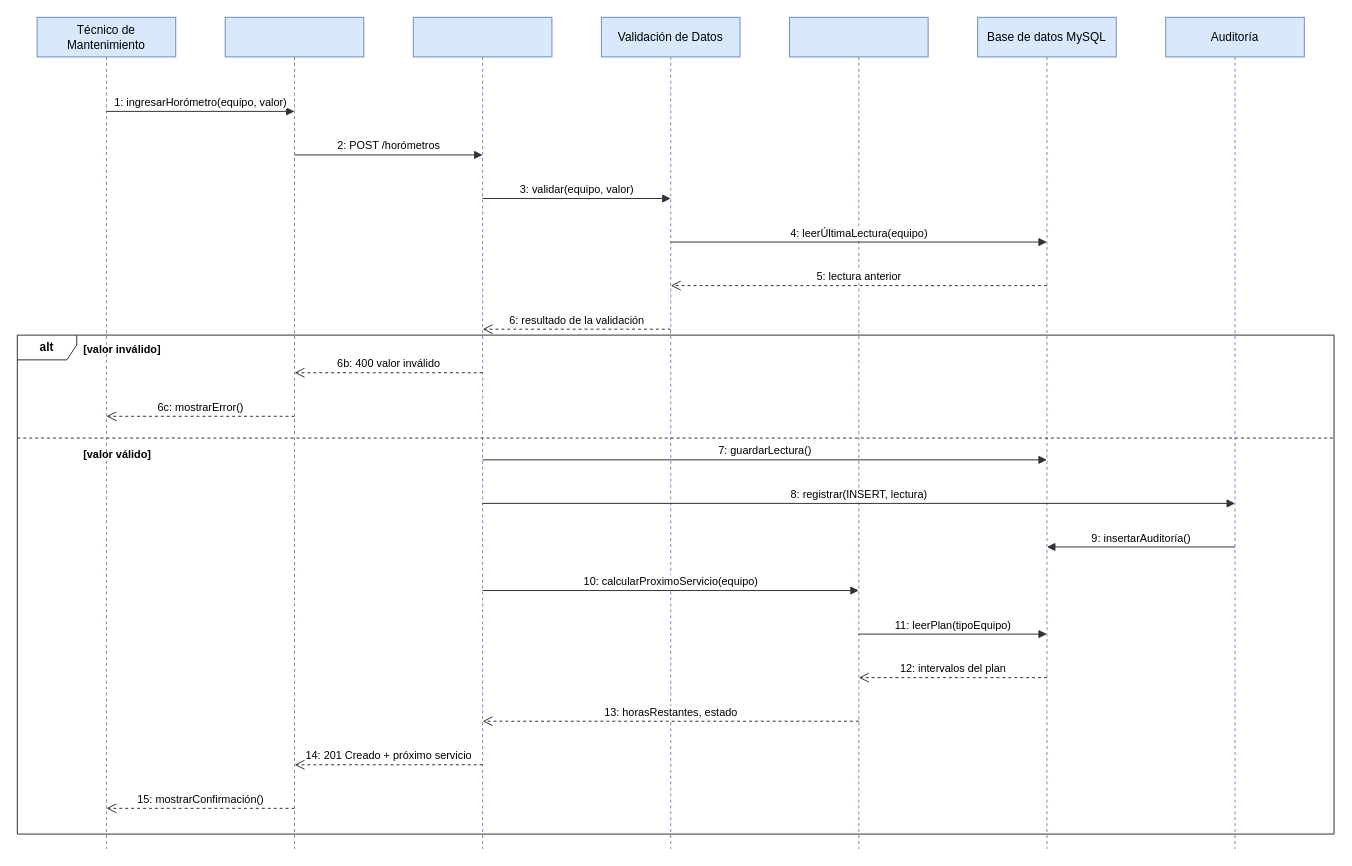
Image size: 1352x866. Some labels were removed from this diagram. The shapes that lost their labels are listed below. From the top down, each one's box as (x1, y1, x2, y2) in pixels, then its label:
(224, 16, 364, 849): Interfaz web
(412, 16, 552, 849): API REST
(789, 16, 928, 849): Cálculo de próximo servicio
